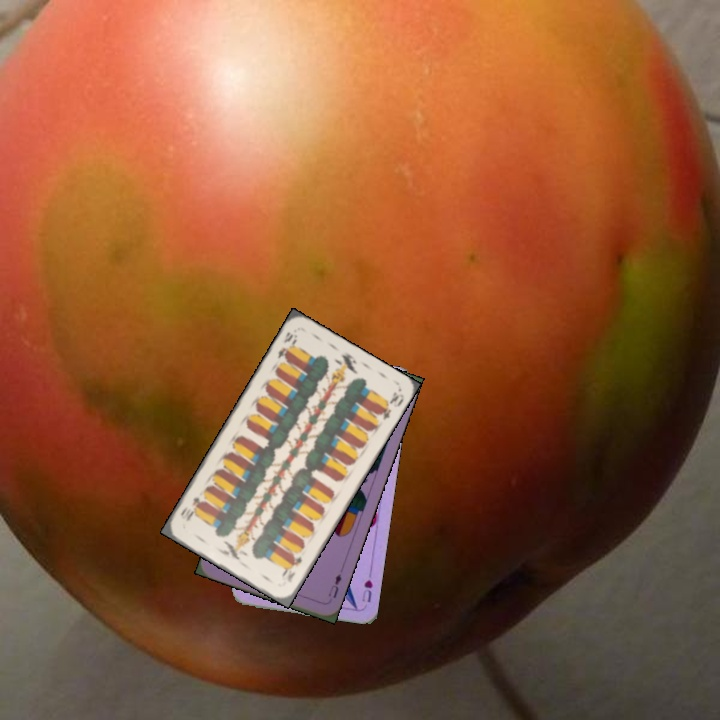E10: (273, 328, 300, 363), (279, 552, 305, 585)
EU: (324, 570, 344, 601)
HU: (358, 575, 375, 605)
